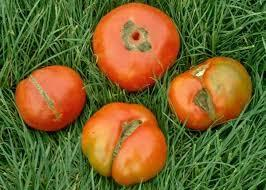tomato early blight: (92, 5, 184, 94), (83, 103, 170, 187), (169, 61, 255, 132), (16, 68, 88, 134)
